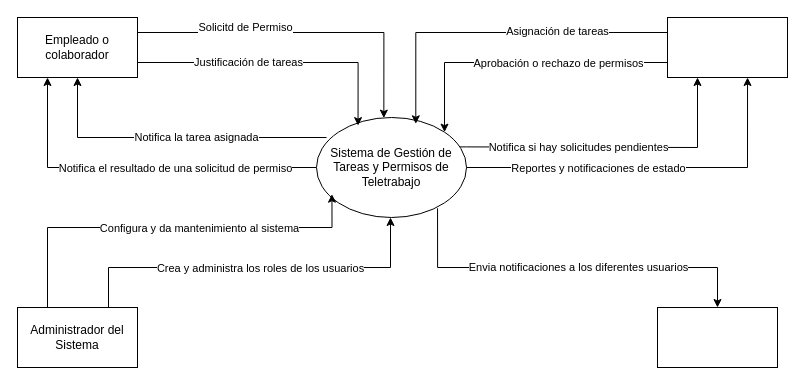
Some shapes in this 805 by 385 pixel diagram are drawn without their labels. Here are the shapes that lost their labels. From the top down, the centre of each, then its label:
At (x=727, y=47): "Jefe inmediato (director, subdirector, jefe y coordinador)".
At (x=717, y=337): "Servidor de correo interno".
